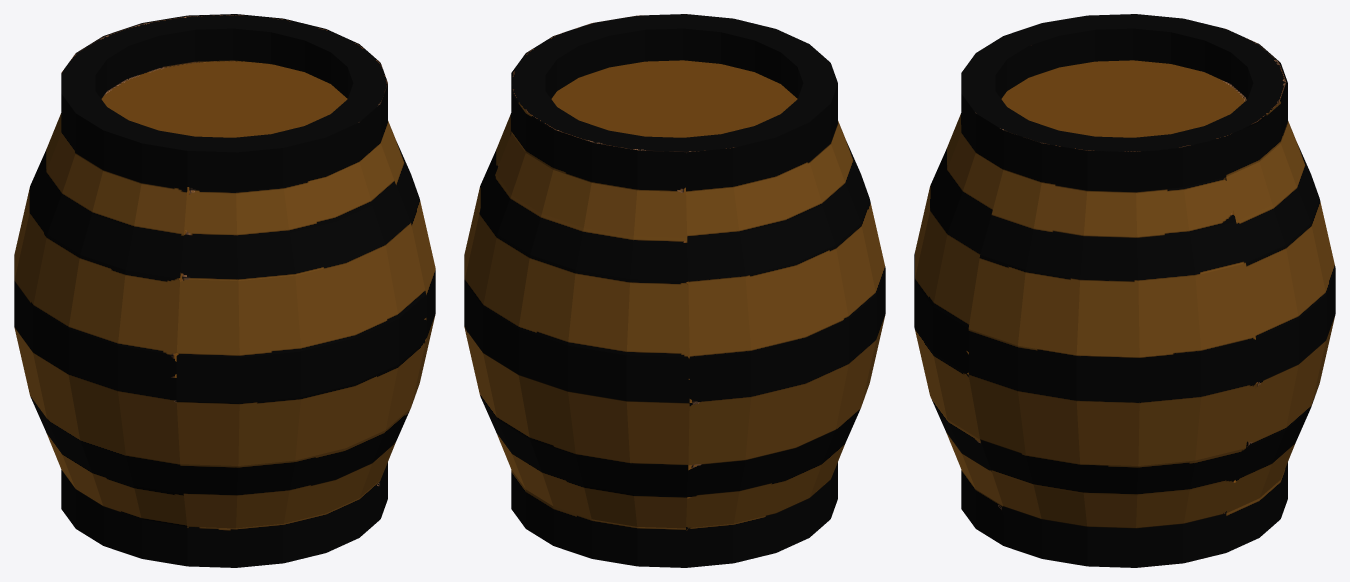
File: Barrel.fbx
3 views of the same model, side by side, from view 1: azimuth 30°, elevation 25°; view 2: azimuth 150°, elevation 25°; view 3: azimuth 270°, elevation 25° (orthographic).
Parts seen in each view (by area): view 1: BERAL; view 2: BERAL; view 3: BERAL.
Boxes of the visible parts, box(x1,y1,x2,y2) form: BERAL: box(14, 14, 435, 567); BERAL: box(464, 14, 885, 567); BERAL: box(914, 14, 1335, 567).
Bounding box in the file's own units: 270 × 293 × 269.
Materials: 1 (1 with a texture image).
